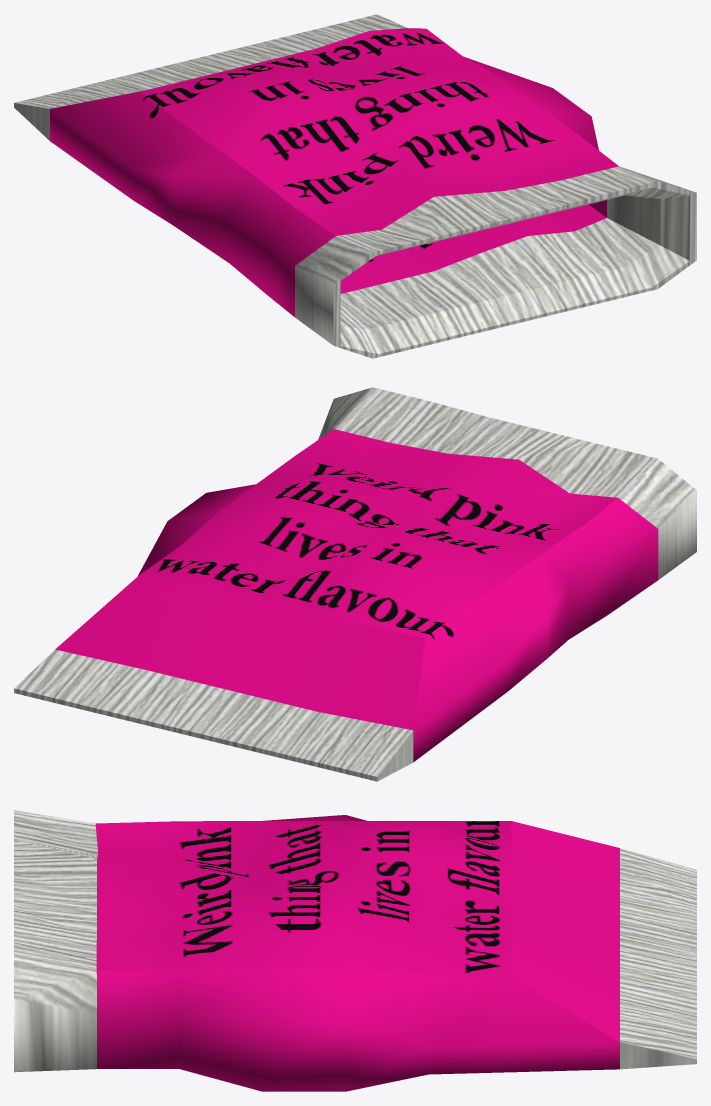
File: Crisp_Pink.fbx
3 views of the same model, one above another, from view 1: azimuth 30°, elevation 25°; view 2: azimuth 150°, elevation 25°; view 3: azimuth 270°, elevation 25° (orthographic). The views are drawn at different scales.
Visible parts, largest first — view 1: pCube8; view 2: pCube8; view 3: pCube8.
Part boxes in pixels (<box>): pCube8: <box>14,14,696,358</box>; pCube8: <box>14,387,696,781</box>; pCube8: <box>14,810,696,1091</box>.
Size of the model in its own units: 26.32 by 7.75 by 38.37.
2 materials, 2 textured.
